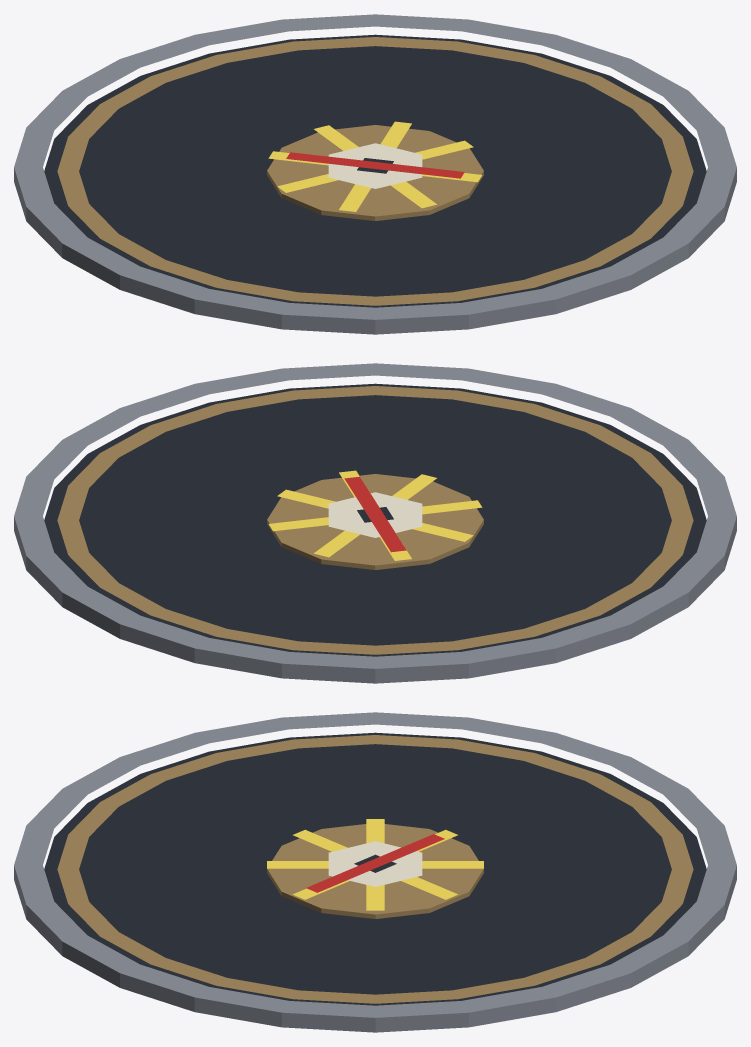
Rendered from blinder_common_area.glb.
3 views of the same model, one above another, from view 1: azimuth 30°, elevation 25°; view 2: azimuth 150°, elevation 25°; view 3: azimuth 270°, elevation 25° (orthographic).
Parts seen in each view (by area): view 1: blinder_common_area; view 2: blinder_common_area; view 3: blinder_common_area.
Part boxes in pixels (x1,y1,x2,y2): blinder_common_area: [14, 14, 736, 334]; blinder_common_area: [14, 363, 736, 683]; blinder_common_area: [14, 712, 736, 1032].
Size of the model in its own units: 2 by 0.05 by 2.
1 material, 1 textured.
